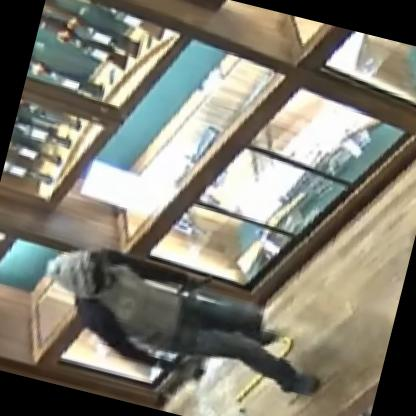Human Body: (20, 214, 352, 415)
